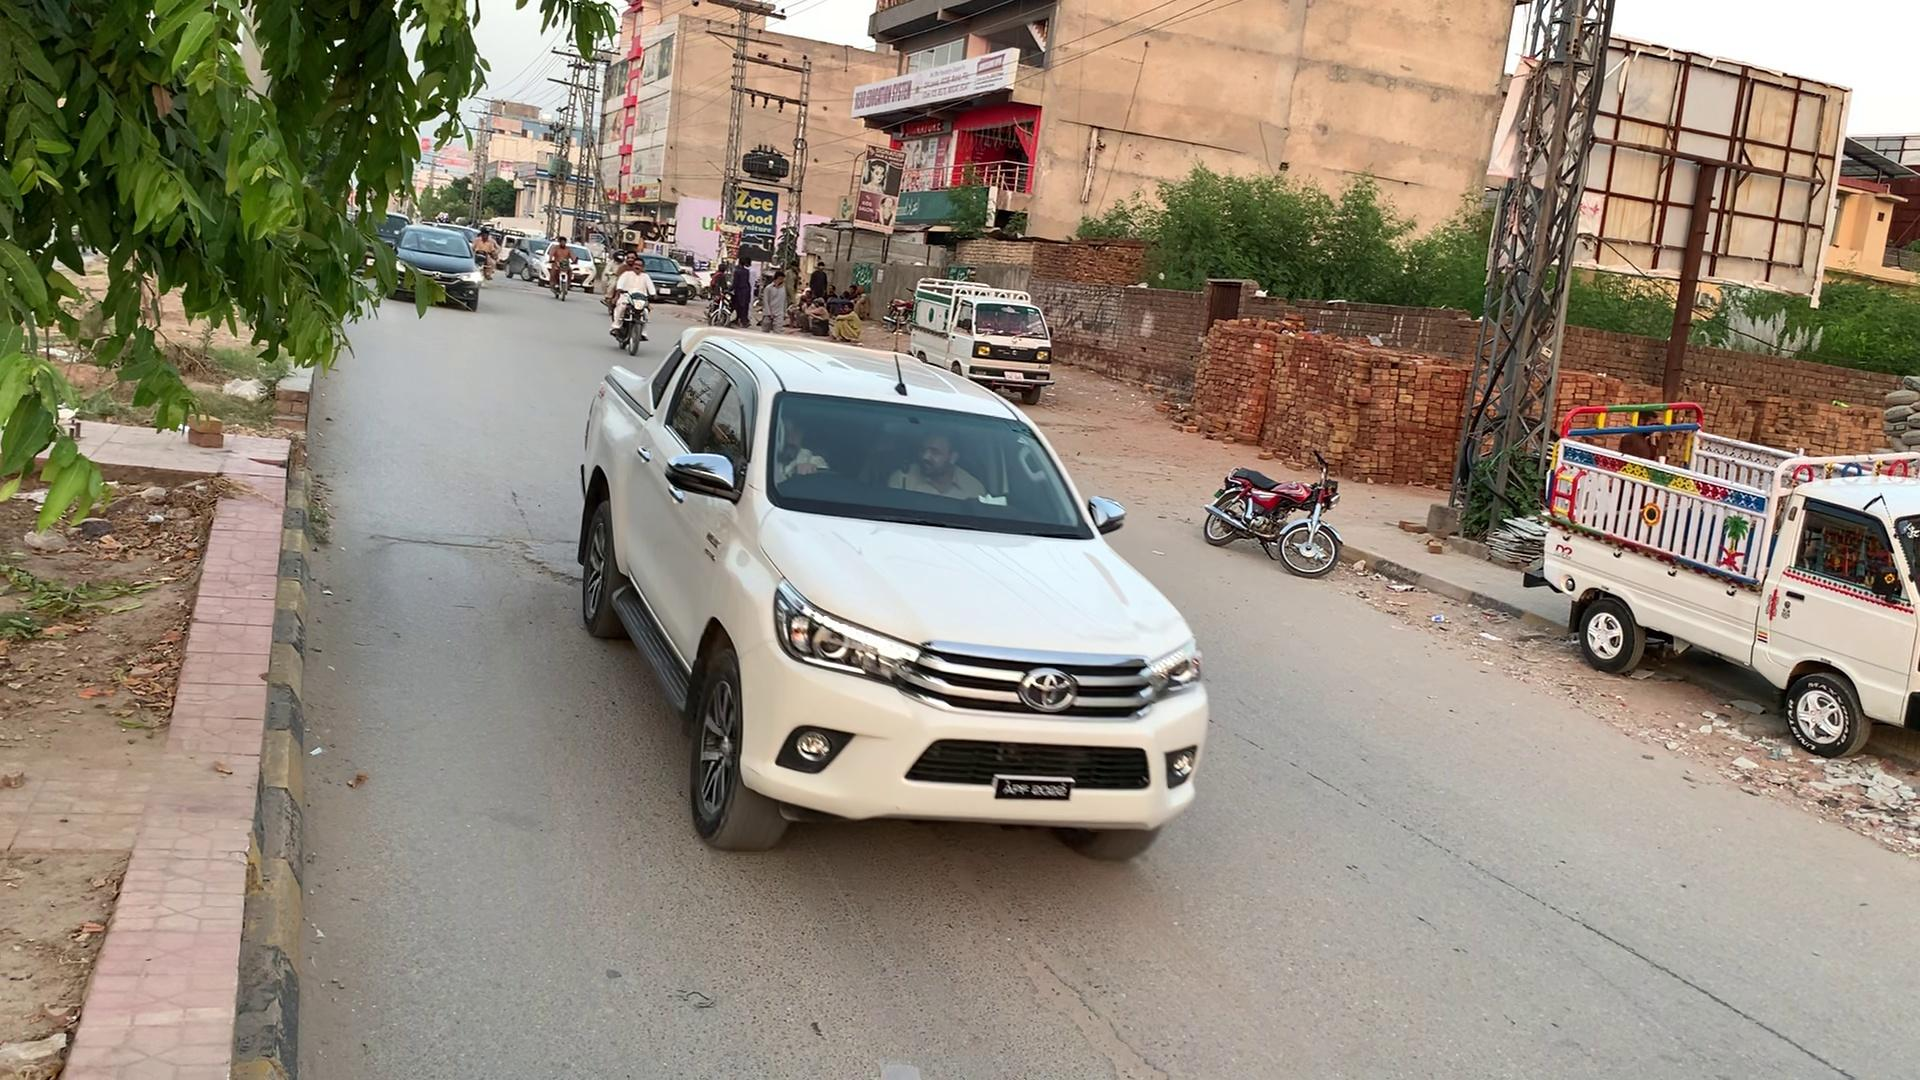windshield: (750, 390, 1110, 533)
